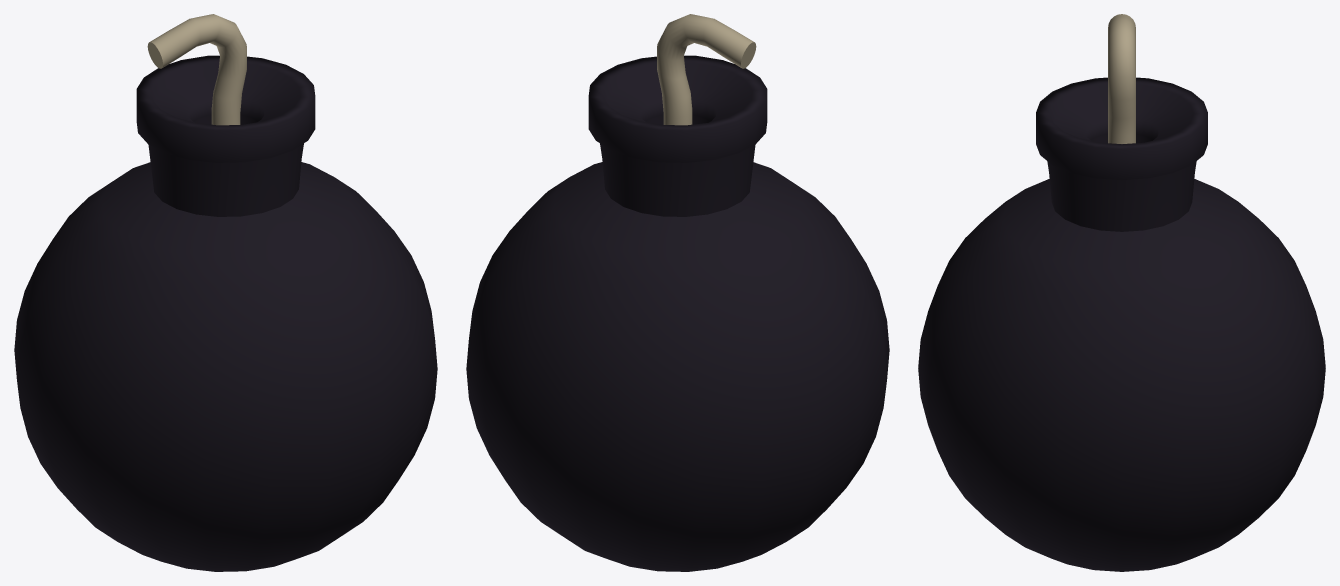
Rendered from bomb.fbx.
3 views of the same model, side by side, from view 1: azimuth 30°, elevation 25°; view 2: azimuth 150°, elevation 25°; view 3: azimuth 270°, elevation 25° (orthographic). The views are drawn at different scales.
Visible parts, largest first — view 1: pSphere1, pCylinder1; view 2: pSphere1, pCylinder1; view 3: pSphere1, pCylinder1.
Part boxes in pixels (x1,y1,x2,y2): pSphere1: (14, 55, 437, 571); pCylinder1: (147, 14, 246, 125); pSphere1: (466, 55, 889, 571); pCylinder1: (657, 14, 756, 125); pSphere1: (918, 77, 1325, 571); pCylinder1: (1108, 14, 1135, 143).
Bounding box in the file's own units: 2 × 2.8 × 2.
